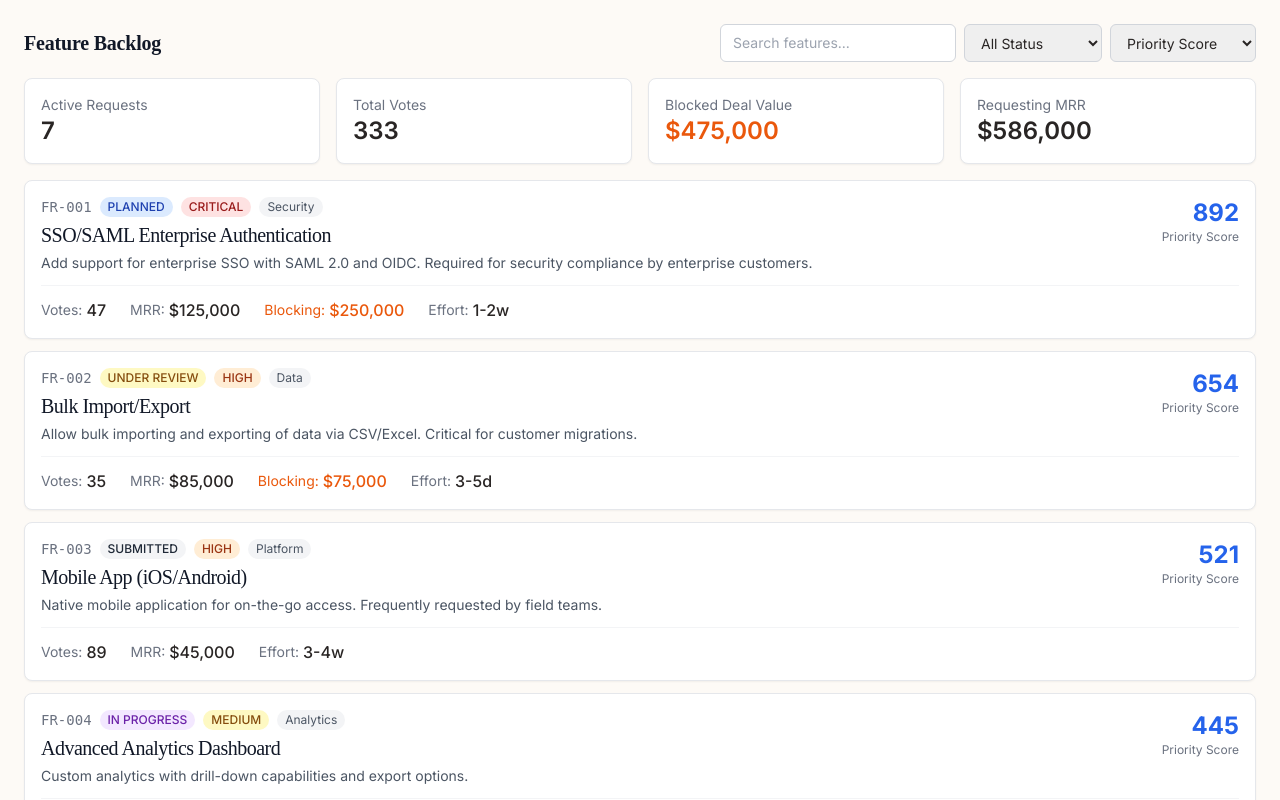
it: RoadmapView › closes feature detail modal when clicking close button
The width and height of the screenshot is (1280, 800).
Expected: the heading "SSO/SAML Enterprise Authentication" is shown, [41,224,331,246]
Click the text "SSO/SAML Enterprise Authentication": (640, 260) [24,180,1256,339]
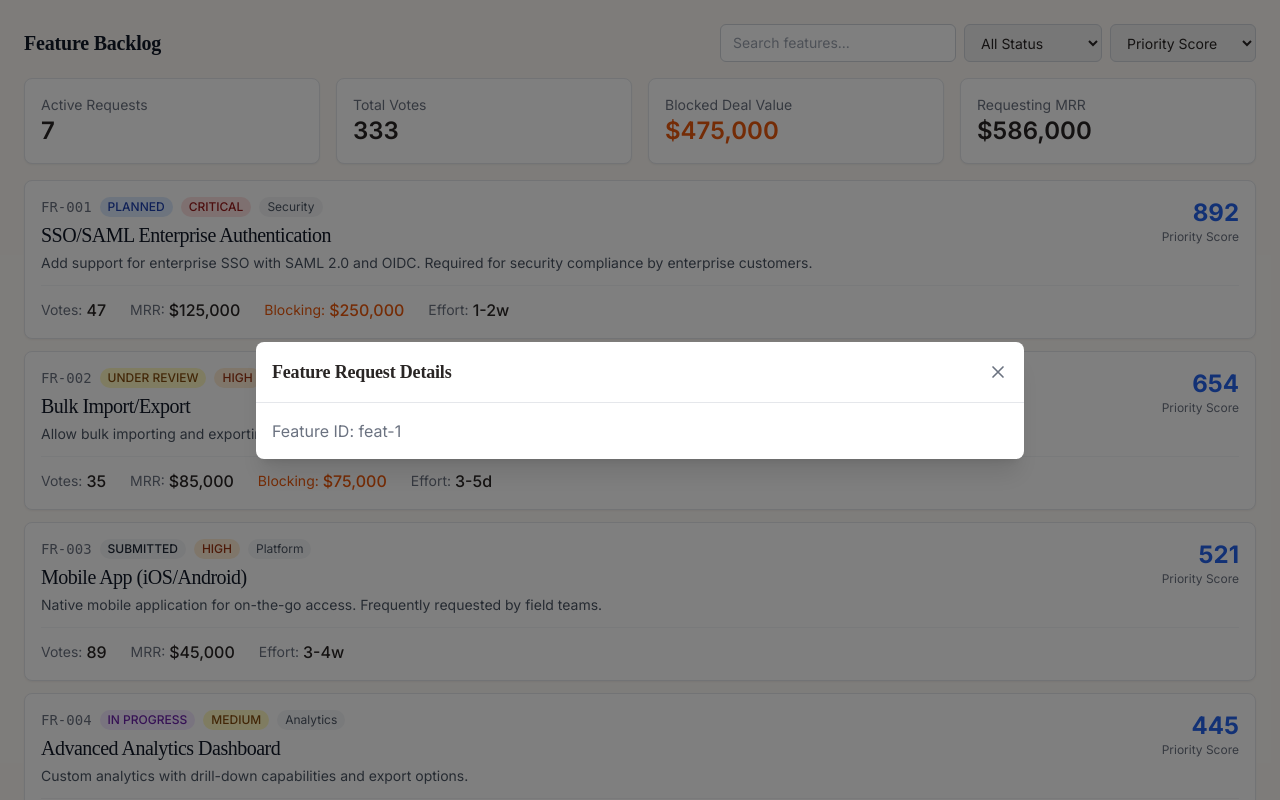
Expected: the heading "Feature Request Details" is shown, [272,358,452,386]
Click the button: (998, 372) [988,362,1008,382]
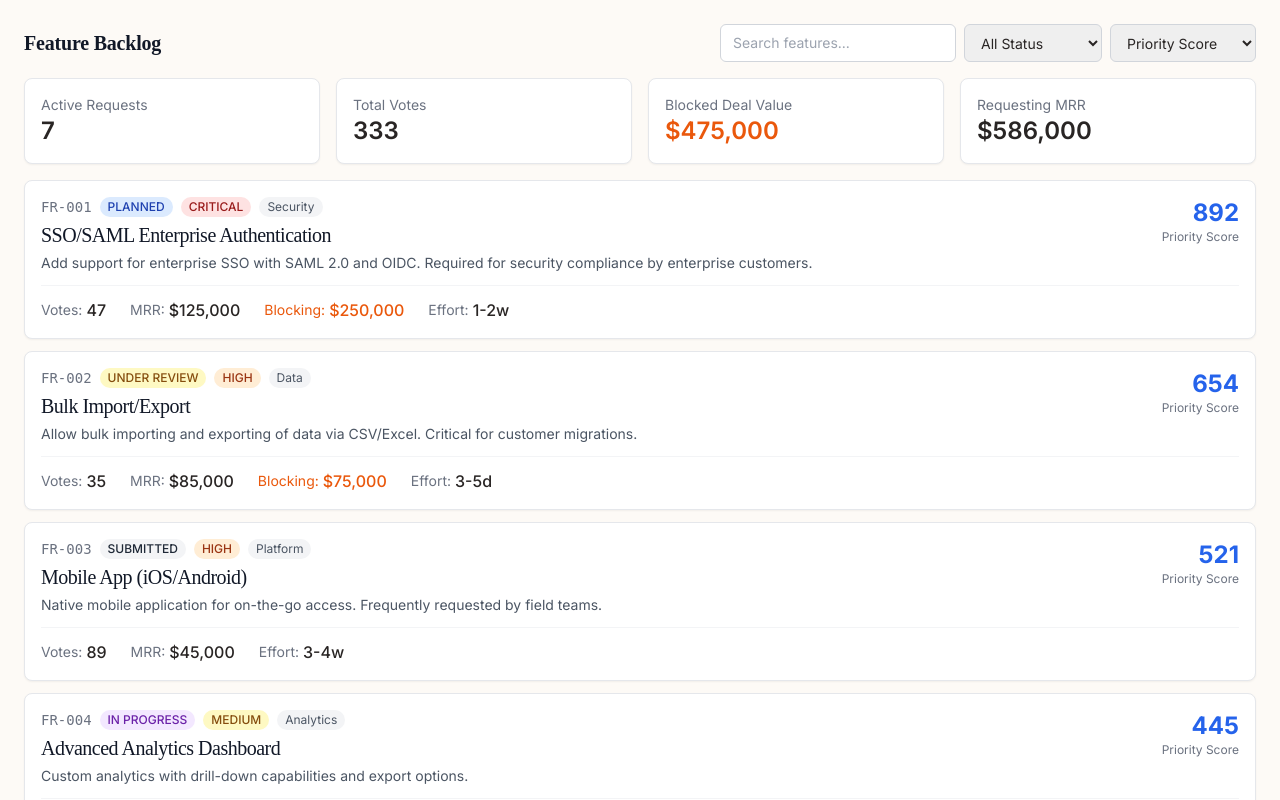
Expected: the heading "Feature Request Details" is gone
